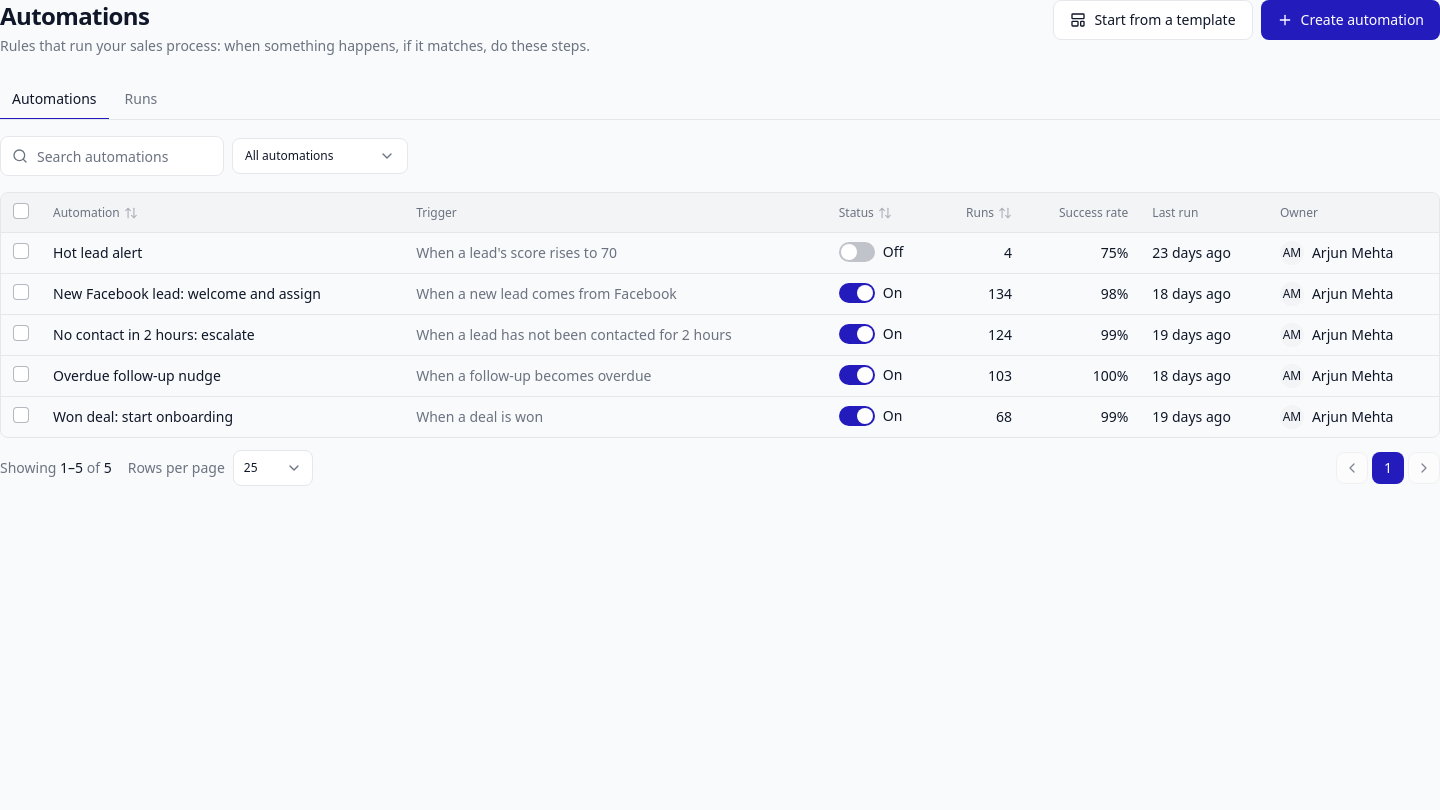
Test: automations list › opens the template gallery with the ready-made automations
The width and height of the screenshot is (1440, 810).
Click the button "Start from a template" at (1153, 20), box [1053,0,1253,40]
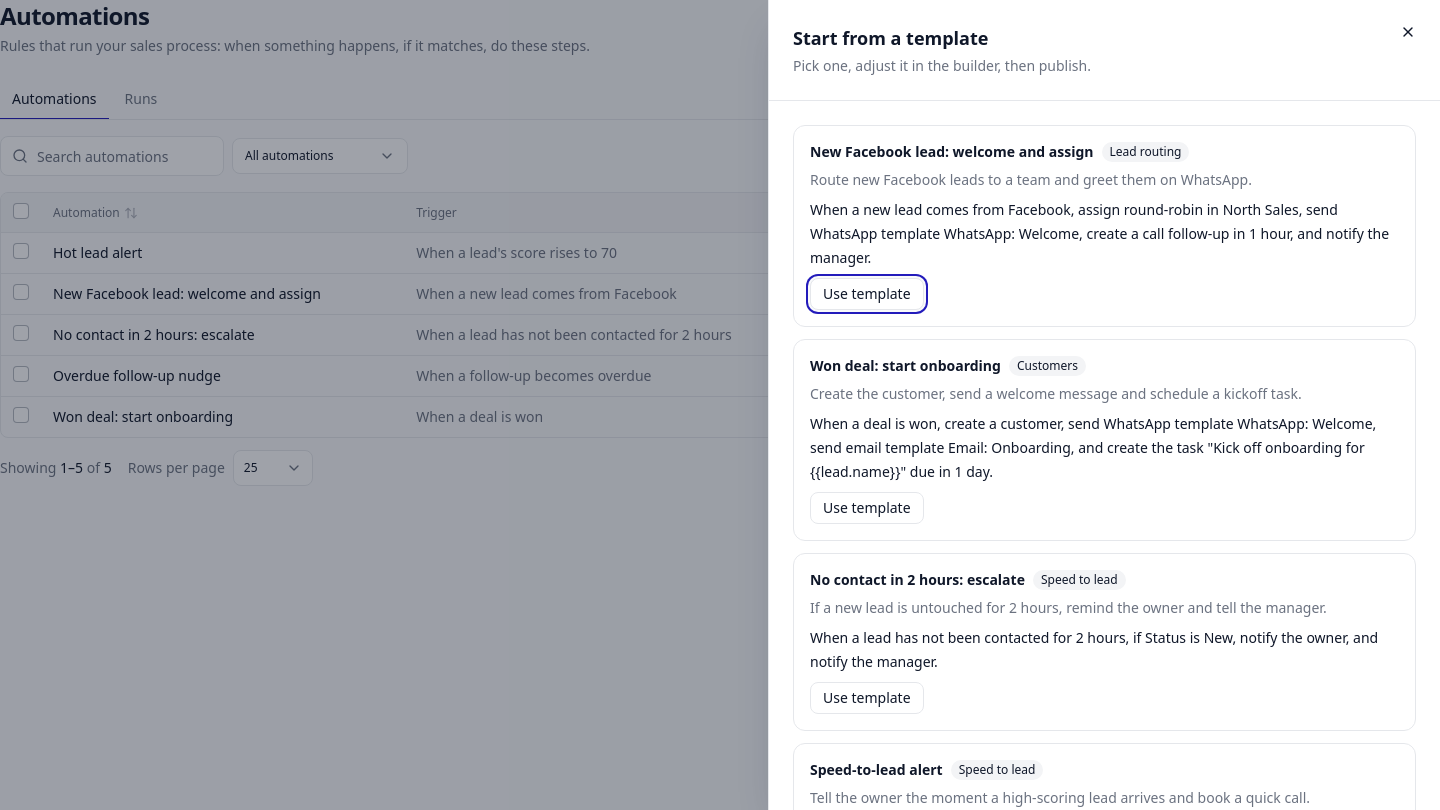
Check: the heading "Speed-to-lead alert" is shown, box [810,760,943,780]
Check: the number of buttons "Use template" is 8
